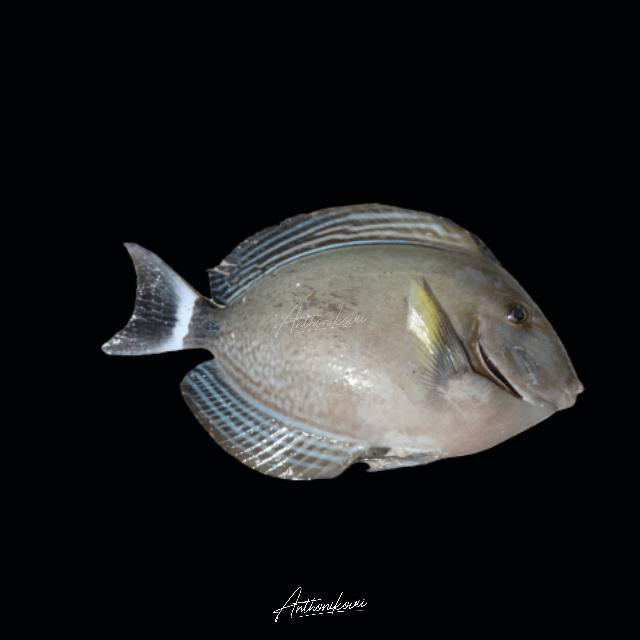Mulut: (541, 353, 607, 441)
Sirip Anal: (174, 351, 362, 491)
Sirip Dada: (388, 256, 482, 416)
Sirip Ekor: (84, 226, 216, 376)
Sirip Perut: (358, 438, 454, 484)
Sirip Punggung: (200, 198, 498, 312)
